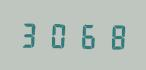eight: (99, 20, 125, 50)
six: (72, 19, 98, 50)
three: (18, 19, 44, 49)
zero: (45, 19, 71, 49)
